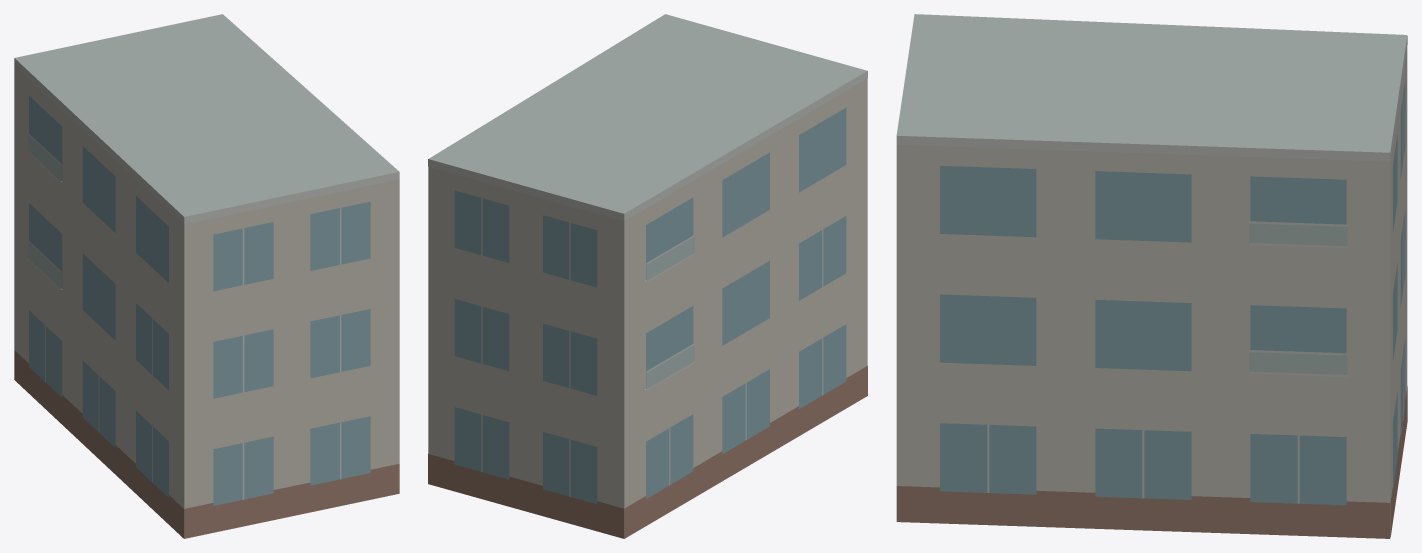
File: survey-upis-32917308.glb
3 views of the same model, side by side, from view 1: azimuth 30°, elevation 25°; view 2: azimuth 150°, elevation 25°; view 3: azimuth 270°, elevation 25° (orthographic). The views are drawn at different scales.
Visible parts, largest first — view 1: survey-upis-32917308.tmp; view 2: survey-upis-32917308.tmp; view 3: survey-upis-32917308.tmp.
Part boxes in pixels (<box>): survey-upis-32917308.tmp: <box>14,14,399,538</box>; survey-upis-32917308.tmp: <box>428,14,867,538</box>; survey-upis-32917308.tmp: <box>896,14,1407,538</box>.
Bounding box in the file's own units: 8.14 × 10.55 × 12.66.
